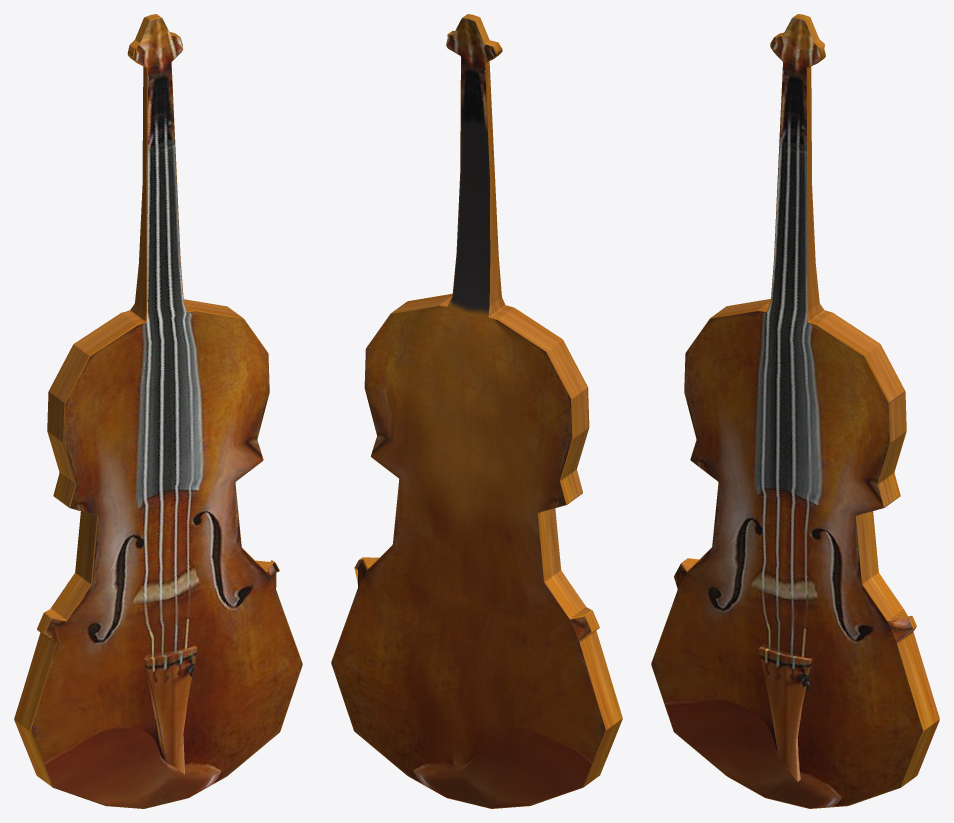
Rendered from viool.dae.
The picture shows the model from 3 angles, left to right: view 1: azimuth 30°, elevation 25°; view 2: azimuth 150°, elevation 25°; view 3: azimuth 330°, elevation 25°; orthographic projection.
Visible parts, largest first — view 1: pCube3; view 2: pCube3; view 3: pCube3.
Part boxes in pixels (x1,y1,x2,y2): pCube3: (14, 14, 302, 808); pCube3: (331, 14, 622, 808); pCube3: (651, 14, 939, 808).
Size of the model in its own units: 10.93 by 29.77 by 1.59.
